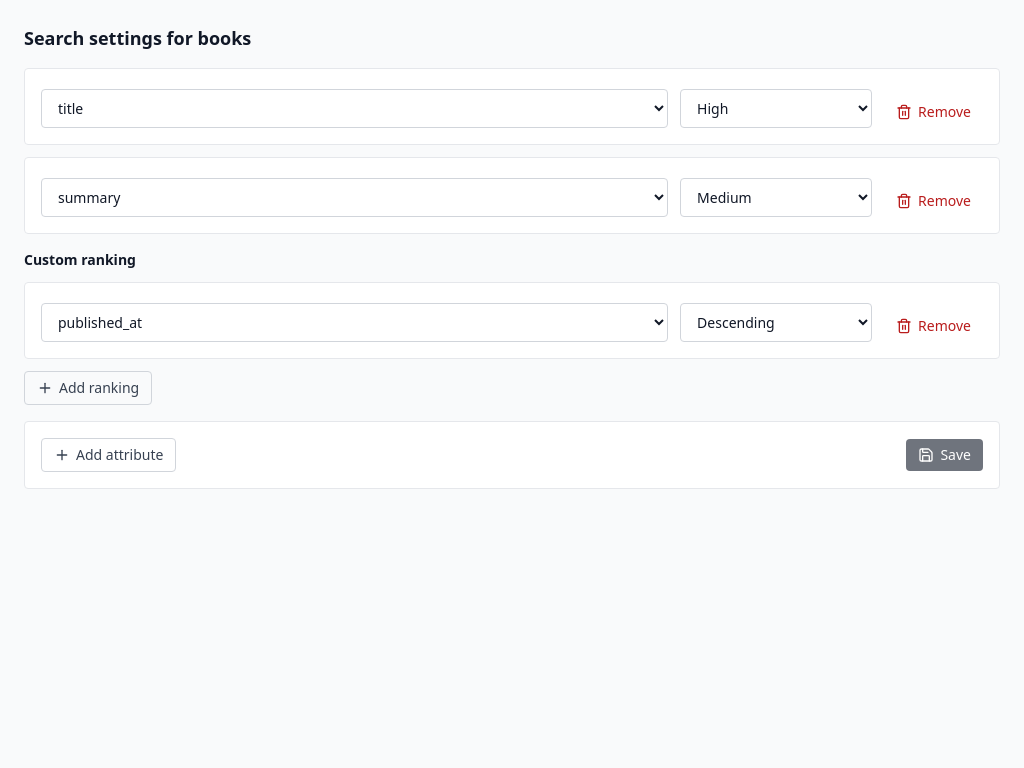
Test case: SearchSettingsEditor › blocks duplicate searchable columns before save and preserves the invalid draft
The width and height of the screenshot is (1024, 768).
Expected: the heading "Search settings for books" is shown, [24, 26, 251, 50]
Select "title" in the dropdown named "Column for attribute 2": (355, 198) [41, 178, 668, 217]
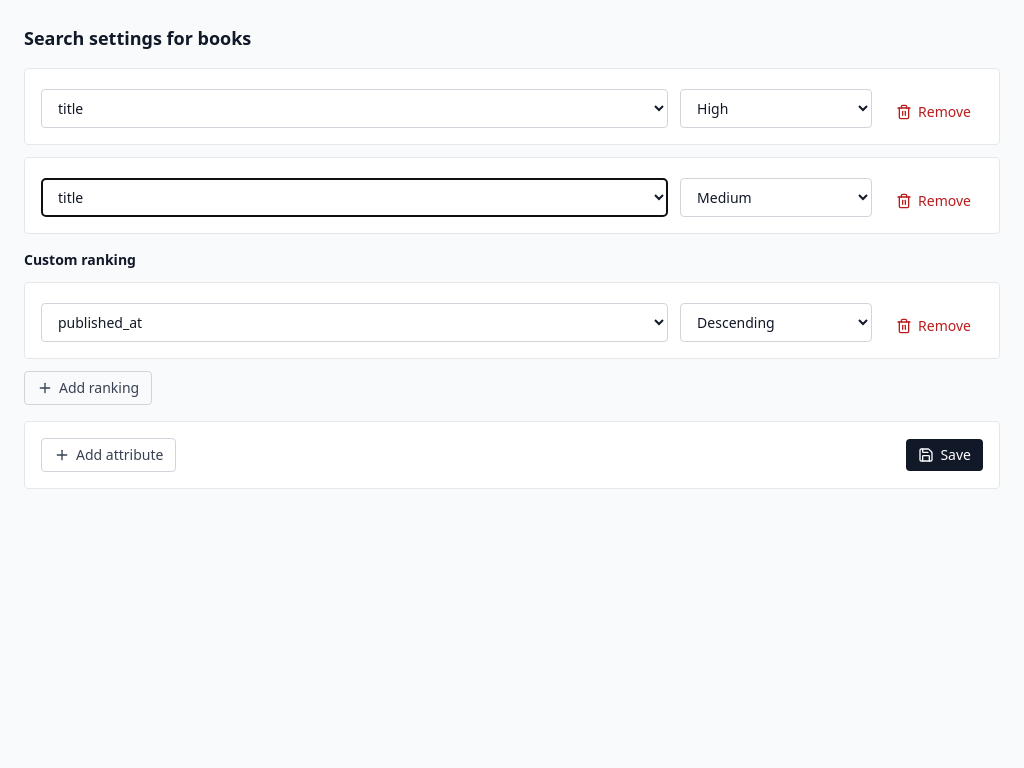
Click the button "Save": (945, 455) [906, 439, 983, 471]
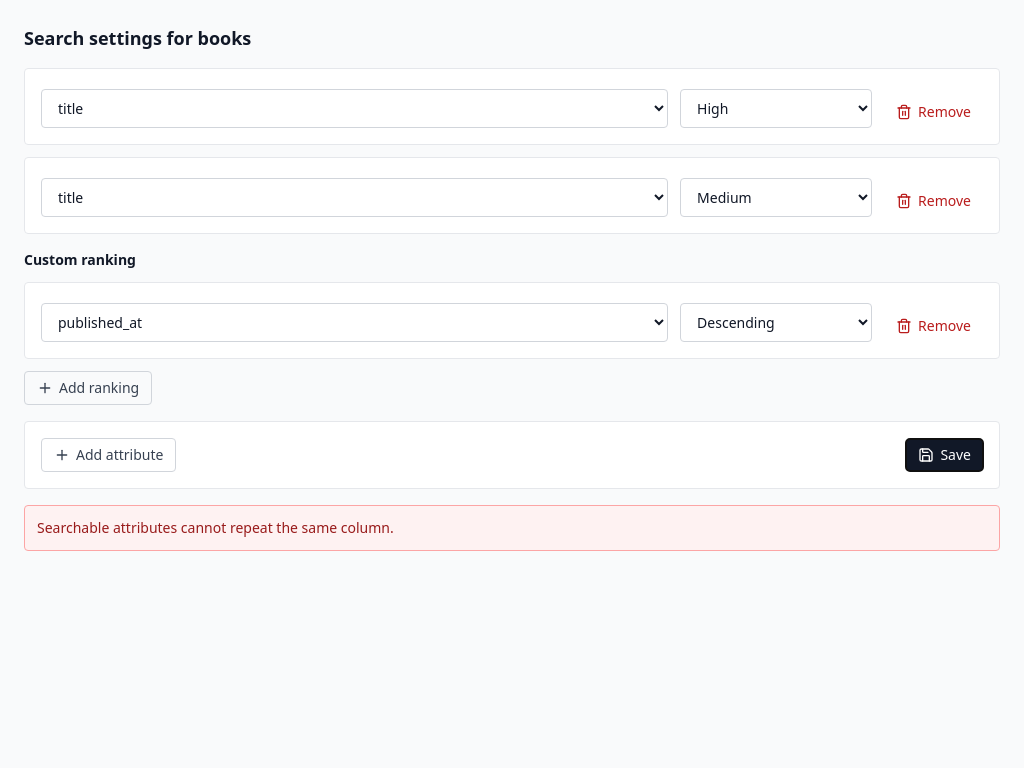
Expected: the dropdown named "Column for attribute 1" shows "title", [41, 89, 668, 128]
Now the text "Searchable attributes cannot repeat the same column." is shown, box [24, 505, 1000, 551]
